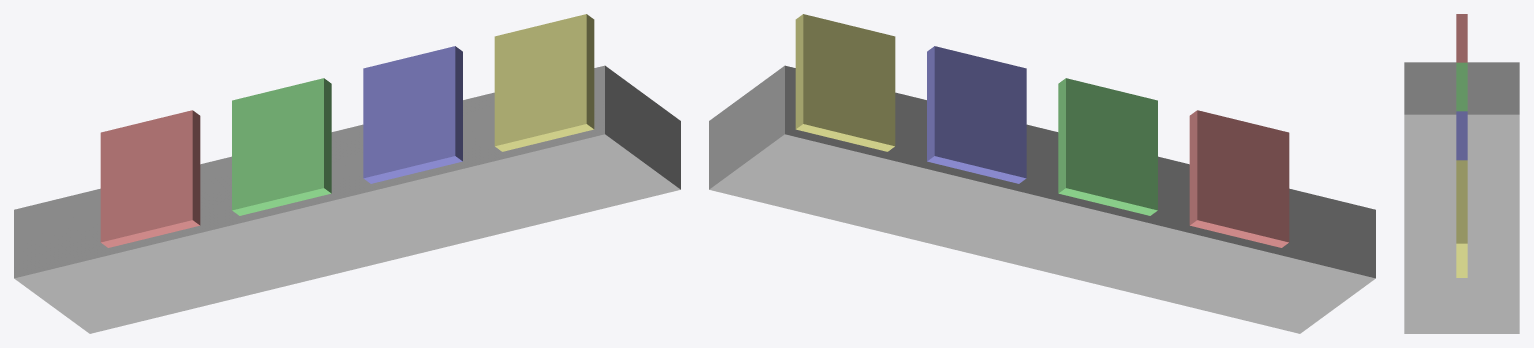
File: disperser_stage.glb
3 renders of one model, left to right at view 1: azimuth 30°, elevation 25°; view 2: azimuth 150°, elevation 25°; view 3: azimuth 270°, elevation 25°, orthographic. The views are drawn at different scales.
Visible parts, largest first — view 1: disperser_stage_frame, grating_3, grating_0, grating_1, grating_2; view 2: disperser_stage_frame, grating_3, grating_0, grating_1, grating_2; view 3: disperser_stage_frame, grating_3, grating_1, grating_2, grating_0.
Part boxes in pixels (box(x1,y1,x2,y2)): disperser_stage_frame: box(14, 65, 680, 333); grating_3: box(494, 14, 594, 151); grating_0: box(100, 110, 200, 247); grating_1: box(232, 78, 331, 215); grating_2: box(363, 46, 462, 183); disperser_stage_frame: box(709, 65, 1375, 333); grating_3: box(795, 14, 895, 151); grating_0: box(1189, 110, 1289, 247); grating_1: box(1058, 78, 1157, 215); grating_2: box(927, 46, 1026, 183); disperser_stage_frame: box(1404, 62, 1519, 333); grating_3: box(1456, 160, 1467, 277); grating_1: box(1456, 62, 1467, 111); grating_2: box(1456, 111, 1467, 160); grating_0: box(1456, 14, 1467, 62).
Size of the model in its own units: 0.45 by 0.115 by 0.1.
